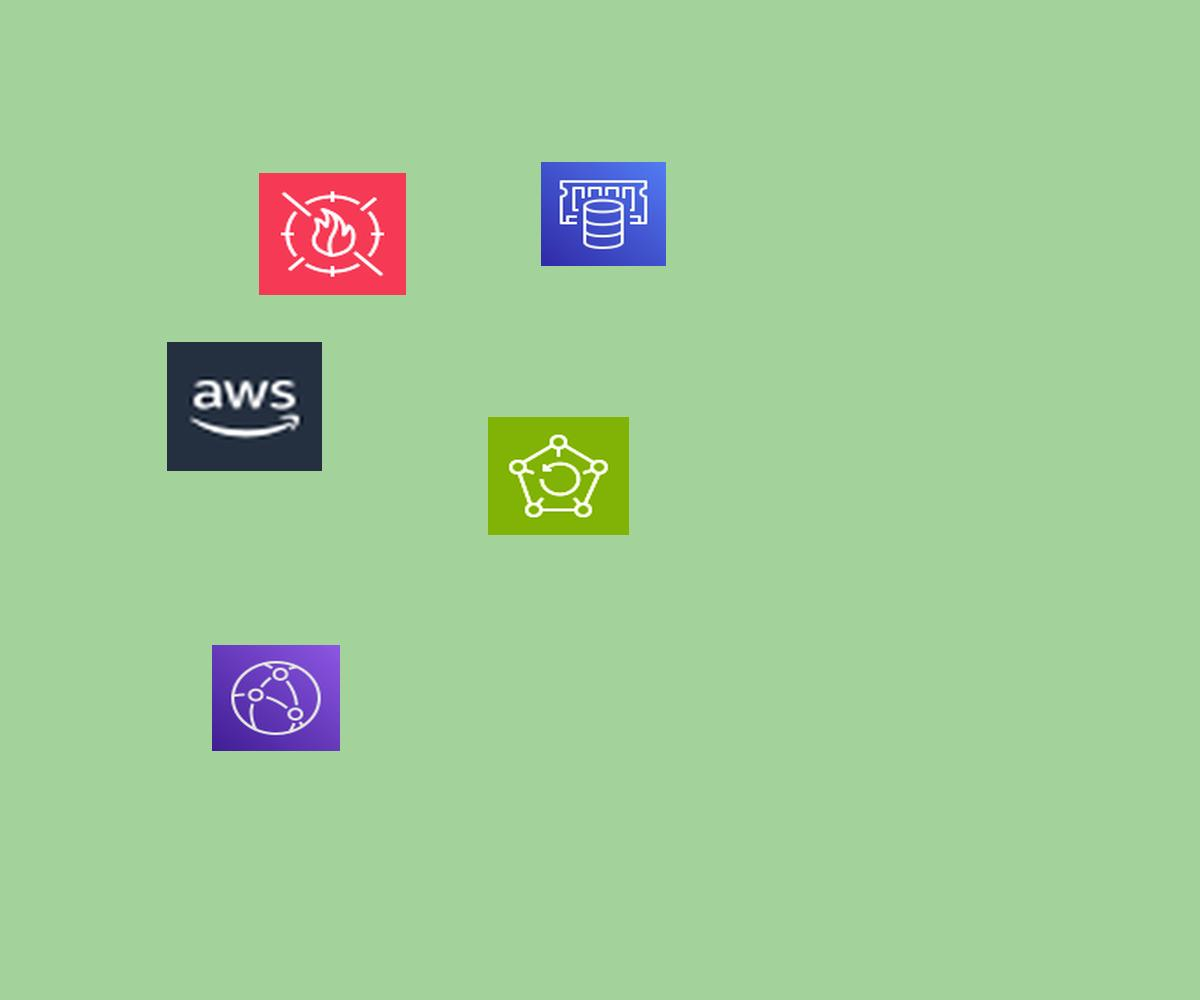AWS-Backup: (488, 417, 629, 535)
AWS-Cloud-logo: (167, 342, 322, 471)
AWS-CloudFront: (212, 645, 340, 751)
AWS-ElastiCache: (541, 162, 666, 266)
AWS-WAF: (259, 173, 406, 295)
